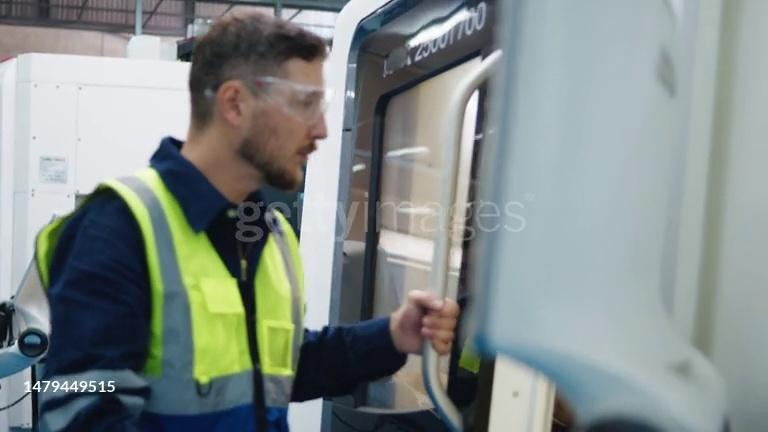person: (22, 8, 463, 432)
